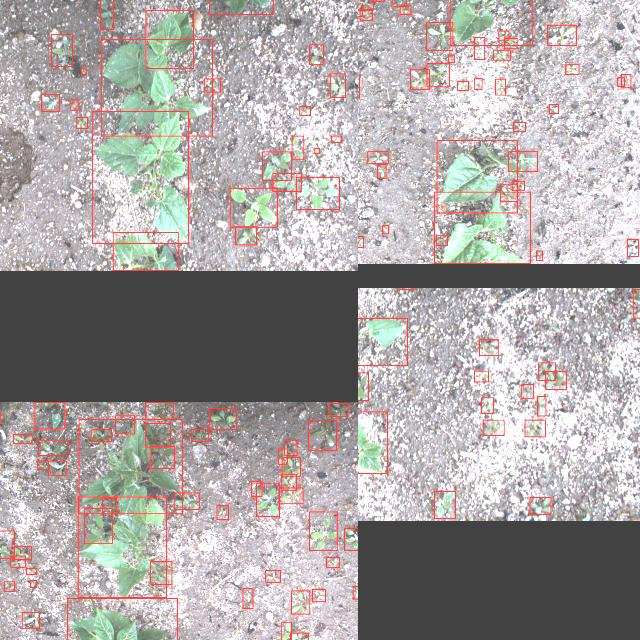crop: (92, 111, 188, 243), (100, 38, 212, 136), (78, 418, 182, 514), (77, 497, 165, 598), (434, 192, 530, 264), (436, 140, 516, 213), (67, 598, 177, 640), (449, 0, 531, 45), (145, 10, 193, 68), (112, 233, 178, 271), (358, 318, 406, 366), (358, 412, 386, 474)
weed: (230, 188, 276, 228), (296, 177, 338, 210), (309, 512, 337, 550), (83, 508, 111, 544), (209, 0, 273, 14), (308, 420, 336, 450), (262, 152, 290, 180), (34, 402, 64, 428), (426, 22, 452, 50), (50, 34, 72, 66), (256, 484, 278, 516), (546, 24, 576, 46), (144, 423, 170, 447), (508, 152, 536, 172), (208, 408, 236, 428), (434, 491, 454, 519), (426, 63, 448, 87), (150, 446, 174, 468), (272, 173, 300, 191), (290, 590, 310, 614), (38, 440, 68, 456), (145, 402, 173, 418), (150, 562, 170, 584), (174, 492, 198, 510), (280, 456, 300, 476), (234, 227, 256, 245), (544, 372, 566, 390), (0, 531, 14, 559), (278, 487, 302, 503), (409, 69, 428, 89), (99, 0, 112, 28), (115, 415, 134, 433), (524, 419, 544, 436), (330, 73, 344, 97), (482, 420, 503, 436), (343, 528, 358, 550), (499, 184, 517, 202), (530, 498, 550, 514), (478, 340, 498, 356), (41, 95, 59, 112), (21, 612, 39, 628), (48, 460, 66, 476), (538, 363, 554, 381), (309, 44, 323, 64), (328, 402, 348, 416), (358, 372, 368, 400), (291, 136, 303, 158), (280, 474, 296, 490), (13, 546, 31, 560), (367, 152, 387, 164), (91, 429, 111, 441), (203, 78, 220, 92), (632, 288, 640, 317), (102, 498, 116, 514), (474, 37, 484, 59), (190, 429, 208, 441), (242, 589, 252, 609), (536, 396, 546, 416), (626, 240, 638, 256), (284, 440, 296, 456), (264, 570, 280, 582), (13, 434, 32, 444), (492, 50, 510, 60), (280, 622, 290, 640), (312, 588, 324, 602), (216, 505, 228, 519), (521, 385, 533, 399), (480, 398, 492, 412), (495, 79, 505, 95), (474, 371, 488, 382), (620, 74, 630, 88), (376, 164, 386, 178), (251, 482, 261, 496), (10, 556, 24, 566), (358, 0, 373, 9), (278, 448, 286, 464), (290, 633, 308, 640), (566, 64, 578, 74), (513, 122, 525, 132), (504, 38, 516, 48), (359, 10, 371, 20), (326, 557, 338, 567), (36, 460, 48, 470), (457, 81, 468, 91), (298, 106, 310, 115), (76, 118, 86, 128), (498, 30, 508, 40), (436, 235, 446, 245), (4, 582, 14, 592), (474, 78, 482, 90), (511, 182, 523, 190), (548, 105, 558, 114), (392, 0, 406, 6), (70, 100, 78, 110), (400, 6, 410, 14), (352, 586, 358, 599), (616, 77, 624, 86), (330, 136, 340, 142), (536, 251, 542, 261), (26, 568, 36, 574), (358, 236, 363, 247), (358, 3, 362, 16), (382, 226, 388, 234), (30, 580, 36, 588), (447, 54, 453, 61), (80, 68, 86, 74), (314, 148, 318, 154)
